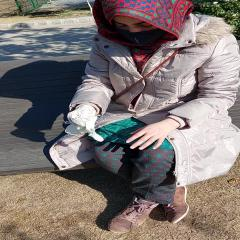gloved: (66, 106, 99, 134)
not-gloved: (128, 119, 179, 149)
